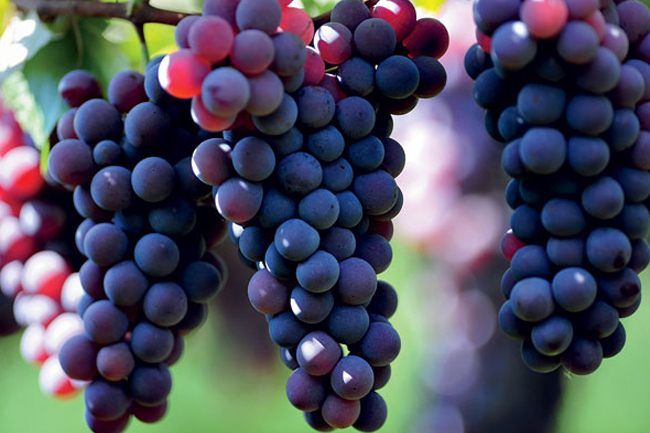Black grapes: (178, 12, 416, 433), (471, 1, 650, 370), (67, 82, 198, 433)
